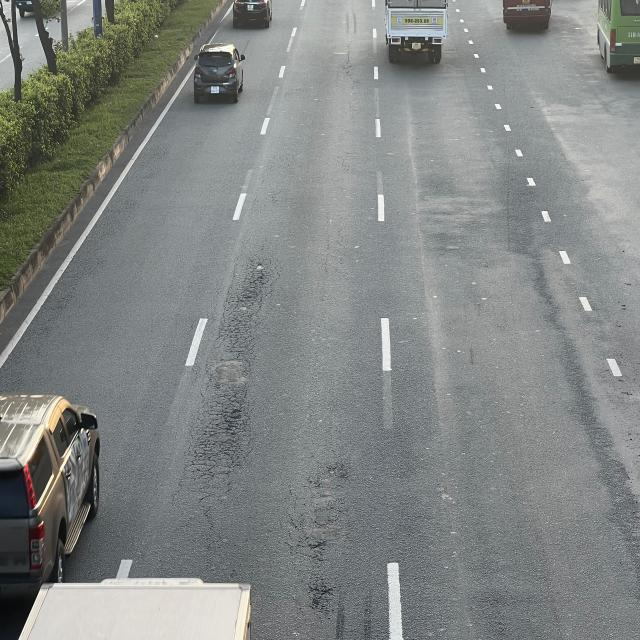car: (0, 391, 102, 616), (192, 44, 245, 102), (236, 0, 276, 28)
truck: (384, 0, 449, 60)
